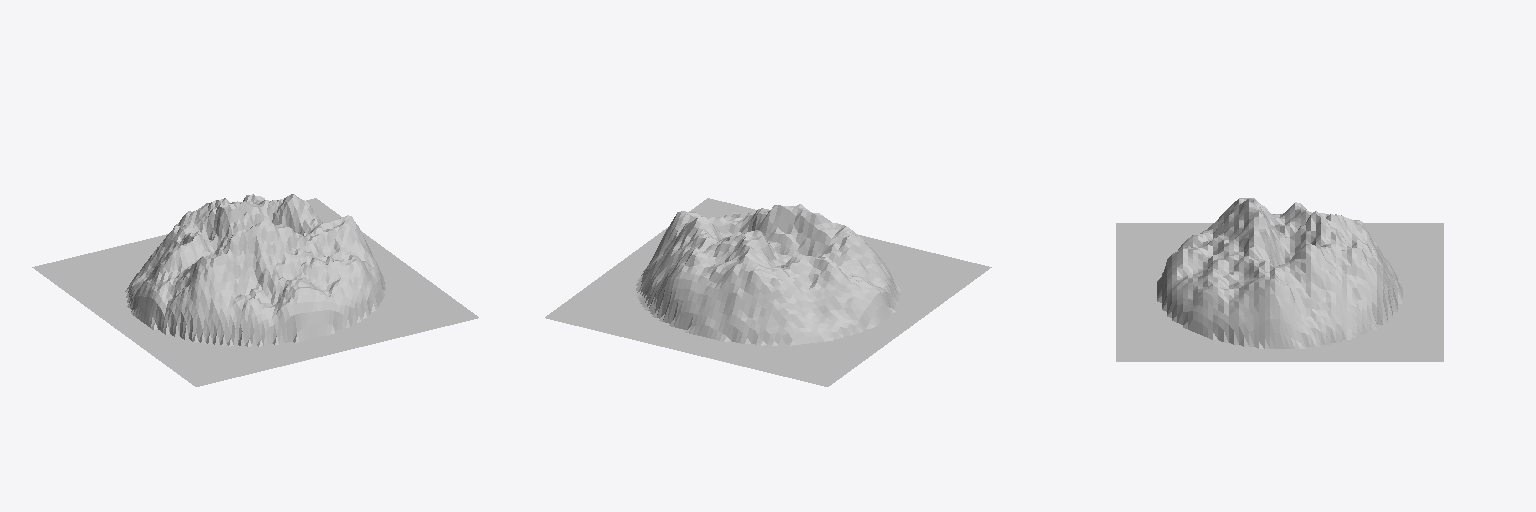
Rendered from mou_011.obj.
The picture shows the model from 3 angles: view 1: azimuth 30°, elevation 25°; view 2: azimuth 150°, elevation 25°; view 3: azimuth 270°, elevation 25°; orthographic projection.
Visible parts, largest first — view 1: 平面.002; view 2: 平面.002; view 3: 平面.002.
Part boxes in pixels (bbox=[...]): 平面.002: bbox=[32, 194, 478, 386]; 平面.002: bbox=[545, 198, 991, 386]; 平面.002: bbox=[1116, 198, 1443, 361].
Size of the model in its own units: 4.58 by 1.41 by 4.58.